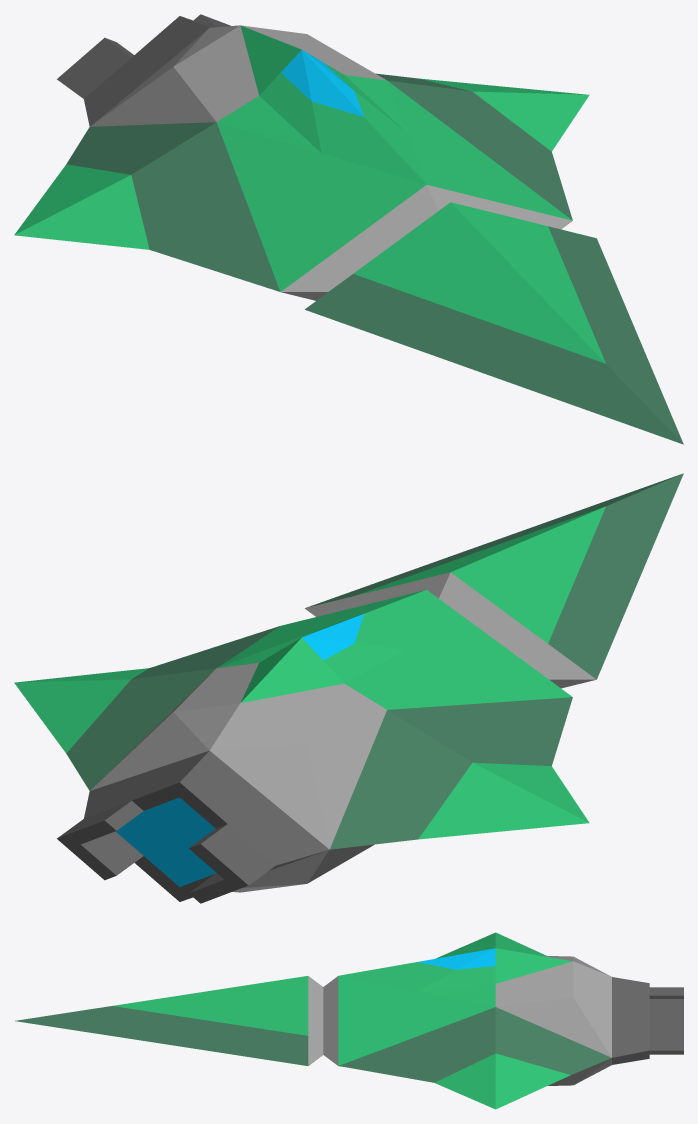
Rendered from tri_lancer.fbx.
3 views of the same model, one above another, from view 1: azimuth 30°, elevation 25°; view 2: azimuth 150°, elevation 25°; view 3: azimuth 270°, elevation 25° (orthographic). The views are drawn at different scales.
Visible parts, largest first — view 1: lancer; view 2: lancer; view 3: lancer.
Part boxes in pixels (x1,y1,x2,y2): lancer: [14, 14, 683, 444]; lancer: [14, 473, 683, 903]; lancer: [15, 932, 683, 1109].
Bounding box in the file's own units: 30.63 × 10.73 × 48.95.
1 material, 1 textured.
